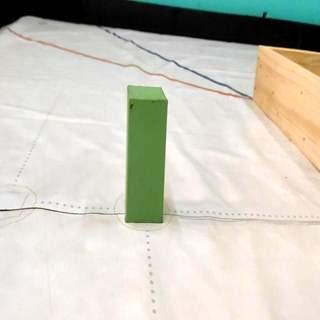greenbox: (125, 84, 168, 224)
